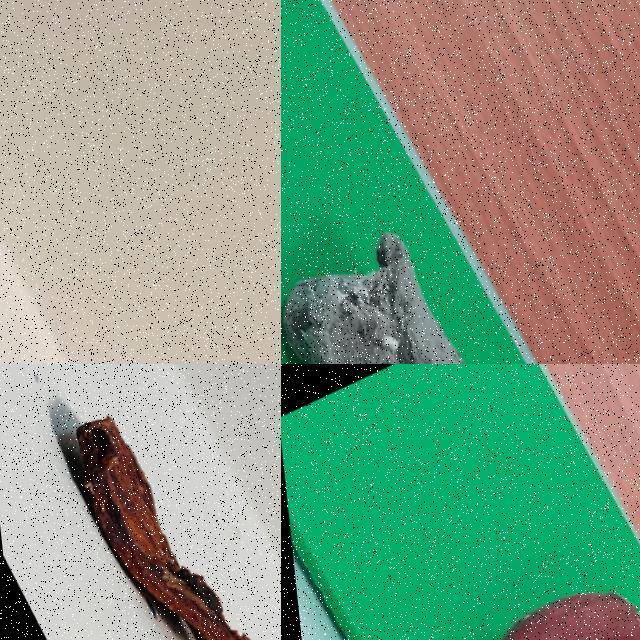Agglomerated_cocoabeans: (281, 150, 551, 363)
Fine_cocoabeans: (367, 484, 639, 639)
Flat_cocoabeans: (0, 364, 280, 639)
